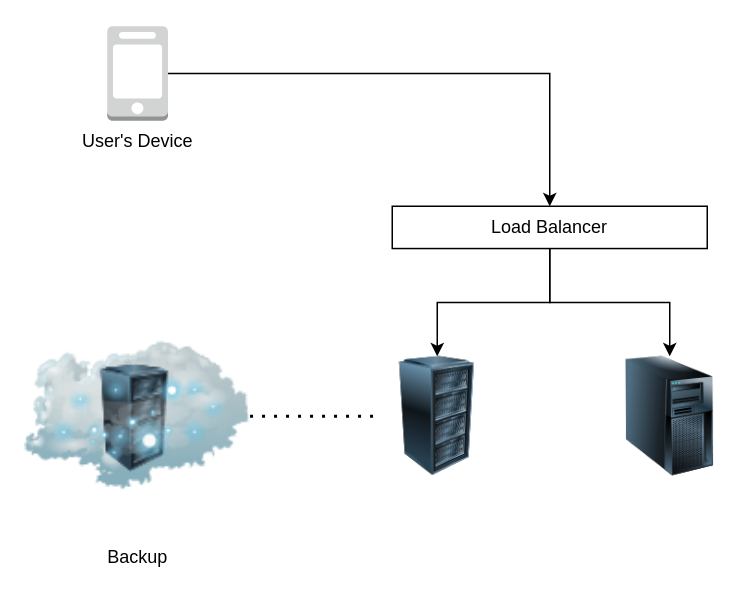
The diagram is 756 pixels wide and 594 high, and some of its shapes have lost their labels. The shapes that lost their labels are listed below. From the top down, each one's centre as x and y in pixels, then its label:
At (436,416): "Database Server".
At (669,416): "Web Server".
